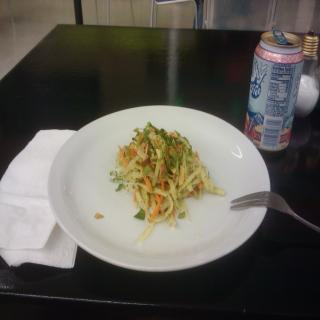Salad: (105, 119, 230, 244)
